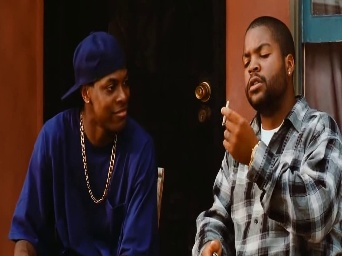smoke: (221, 100, 229, 124)
